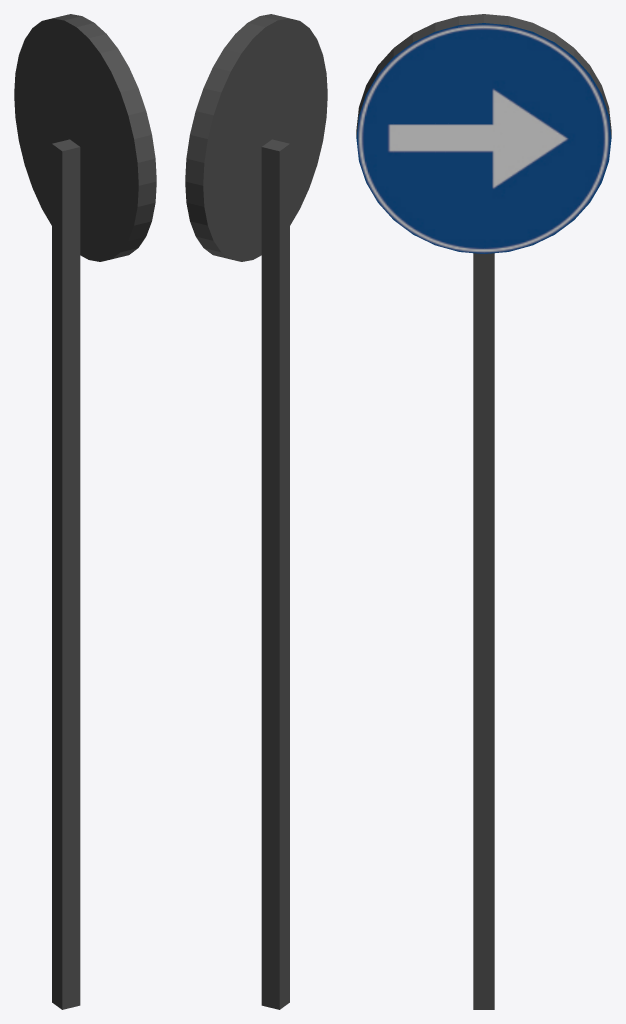
File: sag_mecburi_levha.dae
3 renders of one model, left to right at view 1: azimuth 30°, elevation 25°; view 2: azimuth 150°, elevation 25°; view 3: azimuth 270°, elevation 25°, orthographic. The views are drawn at different scales.
Visible parts, largest first — view 1: Cube.004, Cube.001; view 2: Cube.004, Cube.001; view 3: Cube.001, Cube.004.
Part boxes in pixels (<box>): Cube.004: <box>52,139,80,1009</box>; Cube.001: <box>14,14,156,261</box>; Cube.004: <box>261,139,289,1009</box>; Cube.001: <box>185,14,327,261</box>; Cube.001: <box>356,14,611,253</box>; Cube.004: <box>473,253,494,1009</box>.
Bounding box in the file's own units: 0.1039 × 0.6 × 2.59.
Materials: 2 (1 with a texture image).
